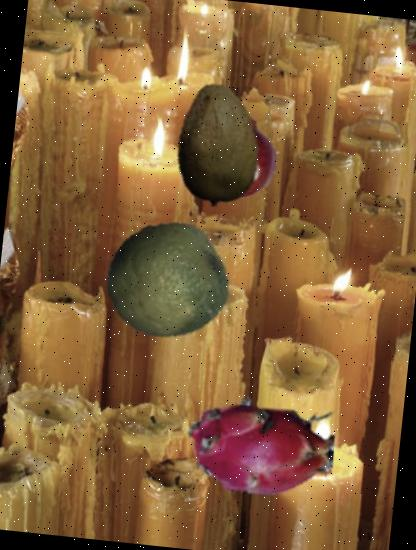Limes: (99, 214, 233, 348)
Papaya: (150, 78, 286, 214)
Pitahaya: (177, 363, 342, 528)
Pomegranate: (185, 108, 282, 206)
